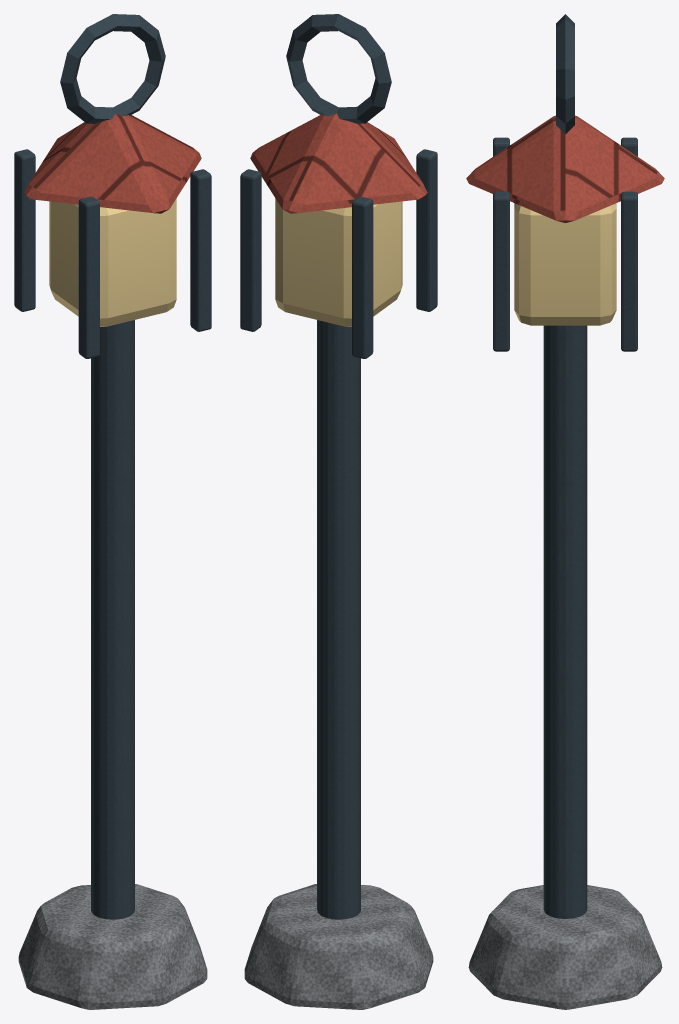
The model's file is lantern.glb.
3 renders of one model, left to right at view 1: azimuth 30°, elevation 25°; view 2: azimuth 150°, elevation 25°; view 3: azimuth 270°, elevation 25°, orthographic.
Parts seen in each view (by area): view 1: post, foot, cap, glow, carrying_loop, frame.002, frame, frame.001; view 2: post, foot, cap, glow, carrying_loop, frame.003, frame.001, frame; view 3: post, foot, cap, glow, frame.002, frame.003, carrying_loop.
Part boxes in pixels (x1=…): post: x1=91, y1=320, x2=134, y2=919; foot: x1=18, y1=884, x2=207, y2=1009; cap: x1=24, y1=113, x2=201, y2=213; glow: x1=49, y1=198, x2=176, y2=326; carrying_loop: x1=60, y1=14, x2=165, y2=123; frame.002: x1=190, y1=169, x2=211, y2=331; frame: x1=78, y1=196, x2=99, y2=358; frame.001: x1=14, y1=149, x2=35, y2=311; post: x1=317, y1=320, x2=360, y2=919; foot: x1=244, y1=884, x2=433, y2=1009; cap: x1=250, y1=113, x2=427, y2=213; glow: x1=275, y1=198, x2=402, y2=326; carrying_loop: x1=286, y1=14, x2=391, y2=123; frame.003: x1=240, y1=169, x2=261, y2=331; frame.001: x1=352, y1=196, x2=373, y2=358; frame: x1=416, y1=149, x2=437, y2=311; post: x1=543, y1=325, x2=587, y2=918; foot: x1=468, y1=885, x2=662, y2=1009; cap: x1=466, y1=115, x2=664, y2=222; glow: x1=514, y1=203, x2=616, y2=325; frame.002: x1=493, y1=191, x2=509, y2=351; frame.003: x1=621, y1=191, x2=637, y2=351; carrying_loop: x1=556, y1=14, x2=574, y2=134.
Bounding box in the file's own units: 0.4655 × 2.46 × 0.4655.
Materials: 4 (3 with a texture image).
